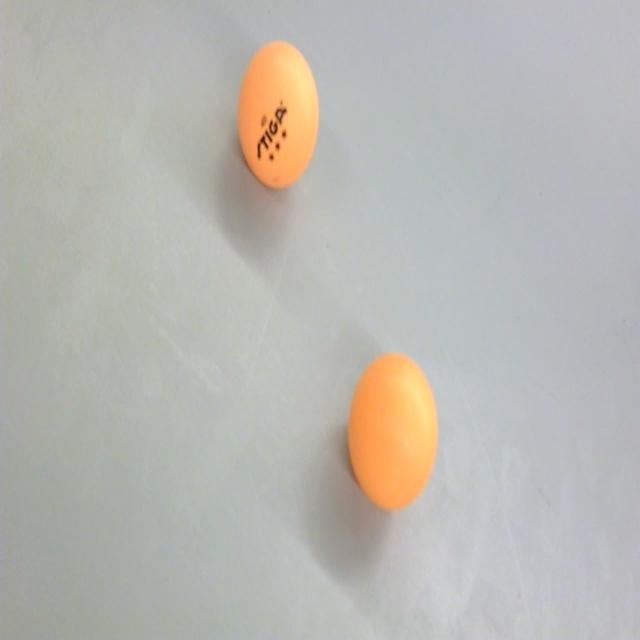ball: (346, 348, 440, 514), (235, 39, 322, 194)
